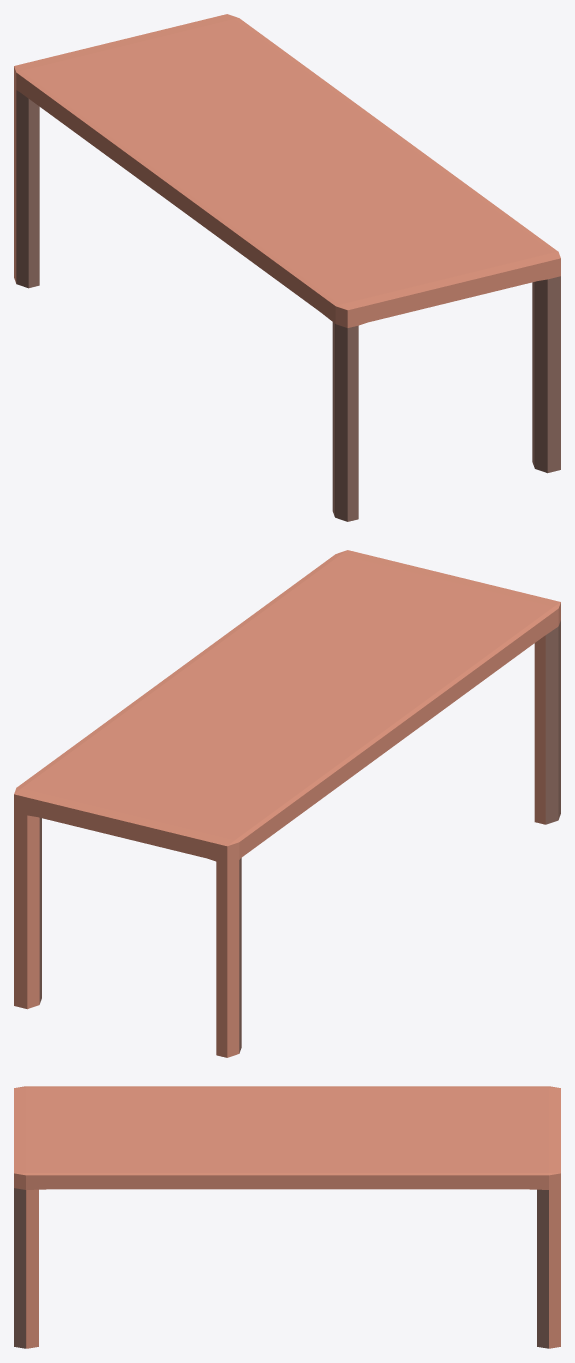
File: table (5).fbx
3 renders of one model, top to bottom at view 1: azimuth 30°, elevation 25°; view 2: azimuth 150°, elevation 25°; view 3: azimuth 270°, elevation 25°, orthographic. The views are drawn at different scales.
Visible parts, largest first — view 1: table; view 2: table; view 3: table.
Part boxes in pixels (x1=…): table: x1=14, y1=14, x2=560, y2=521; table: x1=14, y1=550, x2=560, y2=1057; table: x1=14, y1=1086, x2=560, y2=1348.
Size of the model in its own units: 88.24 by 80.34 by 229.
